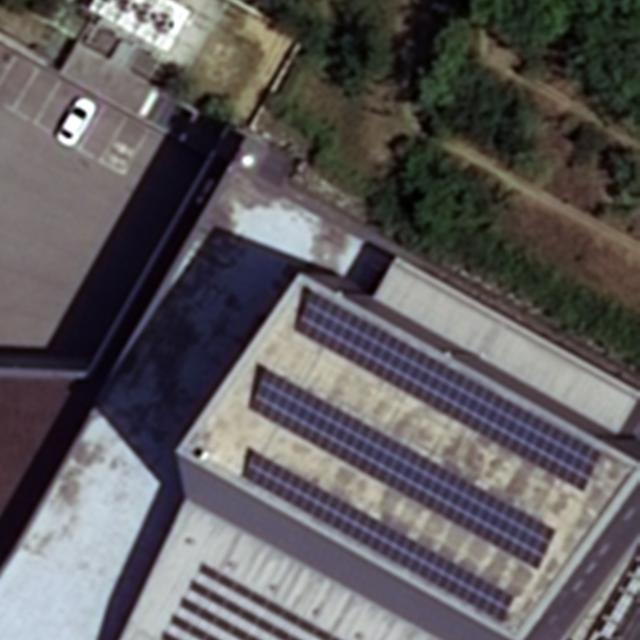solarpanel: (294, 290, 601, 494), (251, 369, 558, 571), (242, 448, 516, 627)
